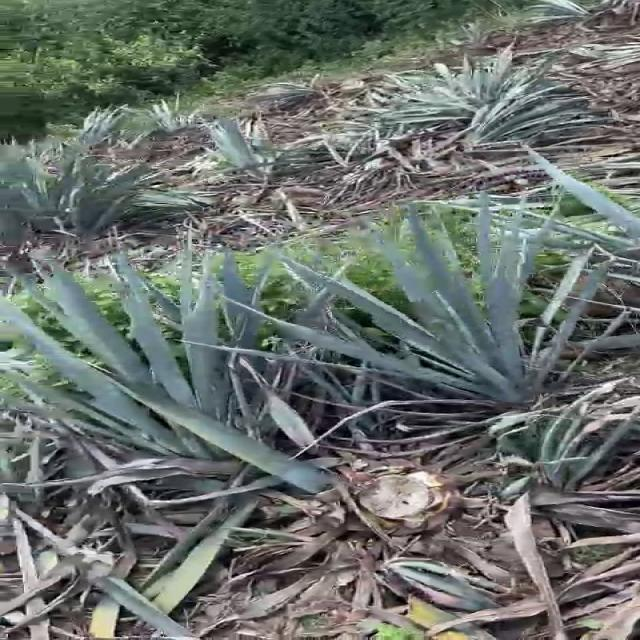agave: (11, 224, 346, 506), (295, 216, 604, 418)
